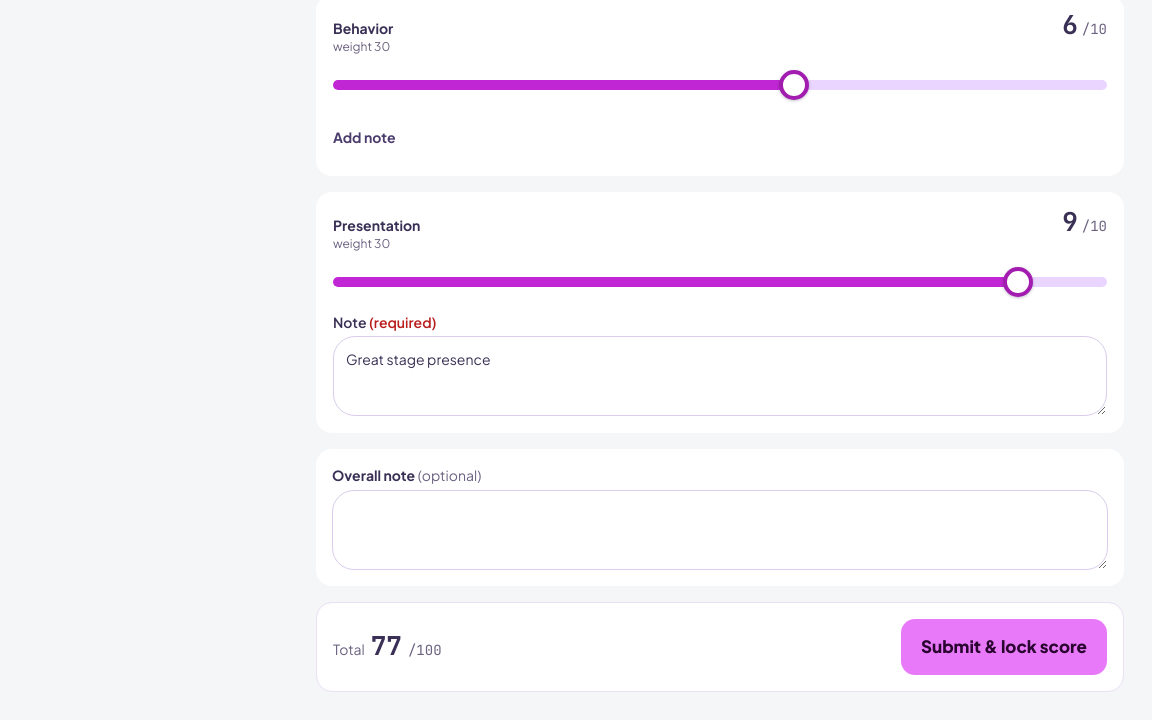
Scenario: LiveJudging: submit and lock › shows the all-scored state after the last participant is locked
The width and height of the screenshot is (1152, 720).
(page scrolled)
Click the button "Submit & lock score". click: click(1004, 646)
box: [901,618,1107,674]
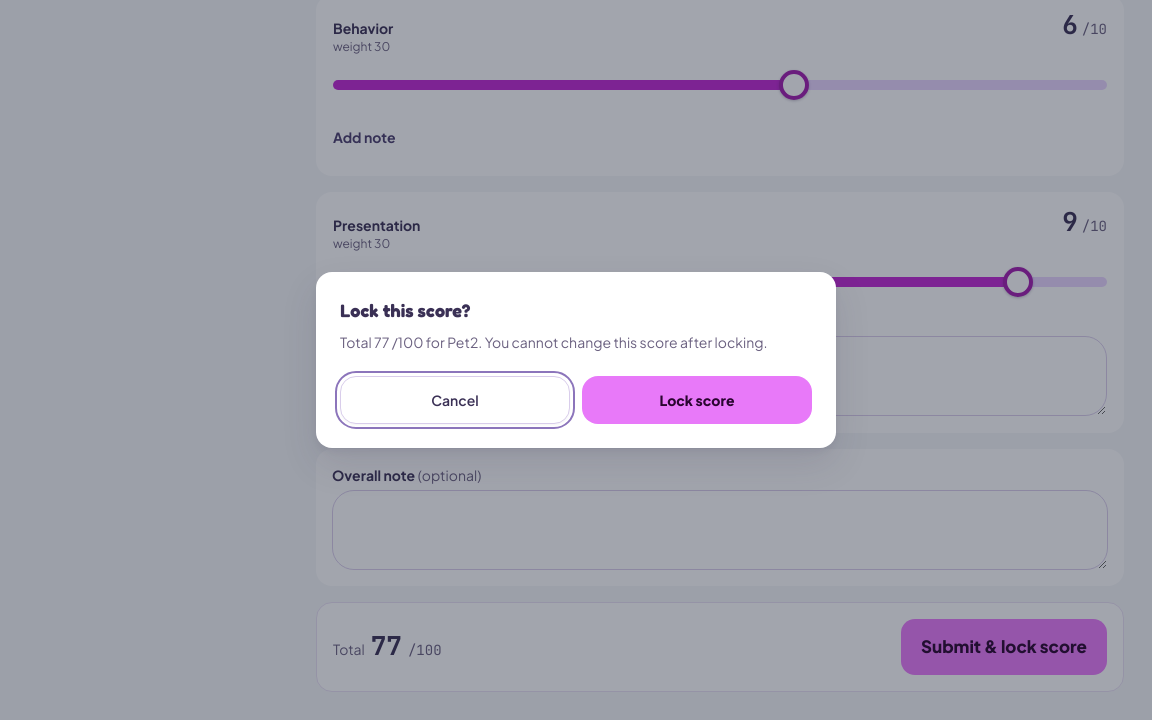
Click the button "Lock score". click: click(697, 400)
box: [582,376,812,424]
(page scrolled)
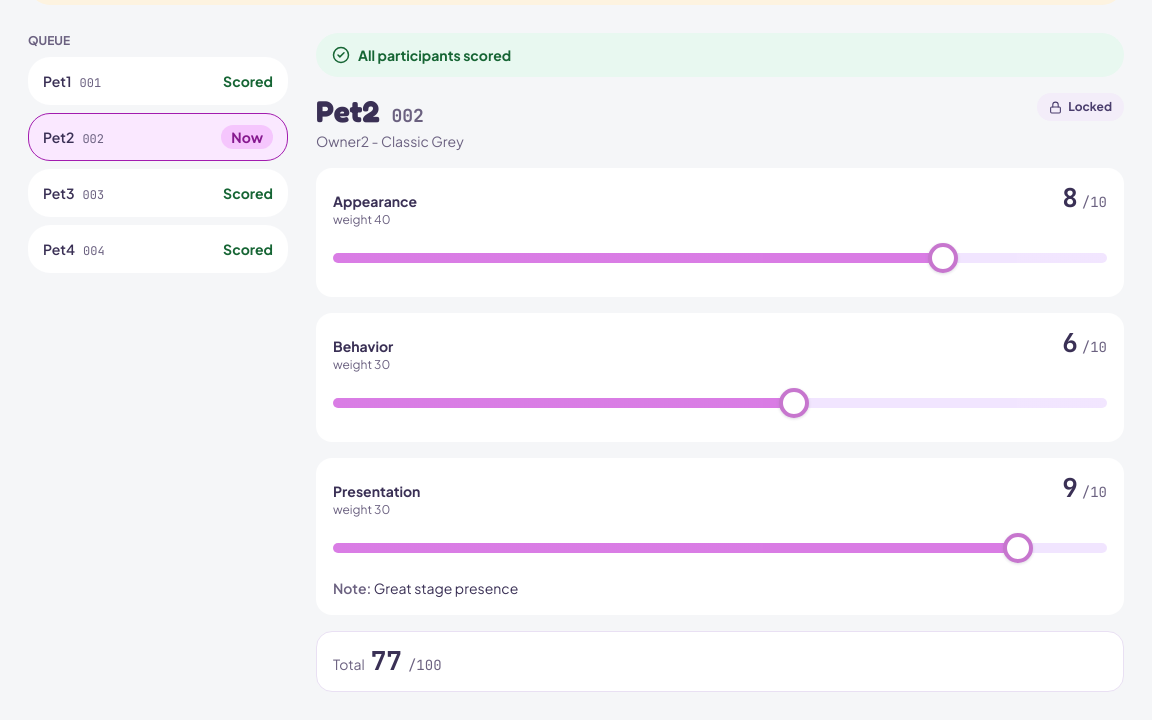
Expected: the text "All participants scored" is shown, [316,33,1124,77]
Expected: the text "Locked" is shown, [1037,93,1124,121]
